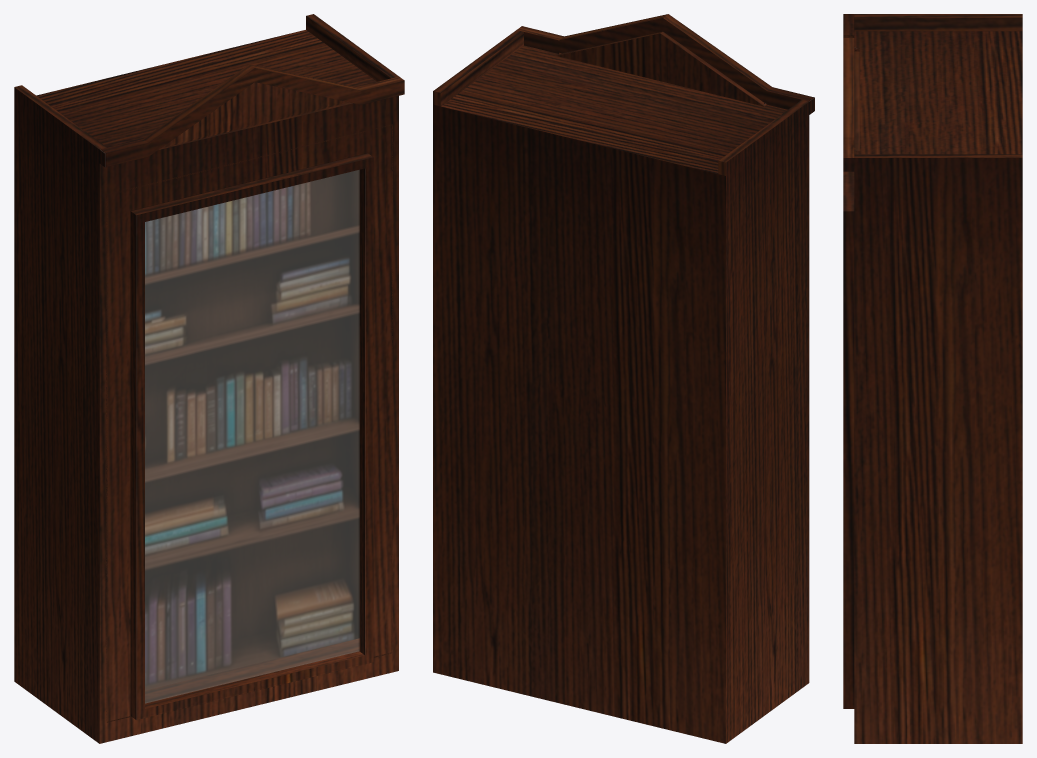
The model's file is pista_biblioteca.glb.
3 views of the same model, side by side, from view 1: azimuth 30°, elevation 25°; view 2: azimuth 150°, elevation 25°; view 3: azimuth 270°, elevation 25° (orthographic). The views are drawn at different scales.
Visible parts, largest first — view 1: Cubo.001; view 2: Cubo.001; view 3: Cubo.001.
Part boxes in pixels (bbox=[...]): Cubo.001: bbox=[14, 14, 404, 743]; Cubo.001: bbox=[433, 14, 814, 743]; Cubo.001: bbox=[843, 14, 1022, 743].
Size of the model in its own units: 1.08 by 2.21 by 0.5668.
Materials: 2 (1 with a texture image).
